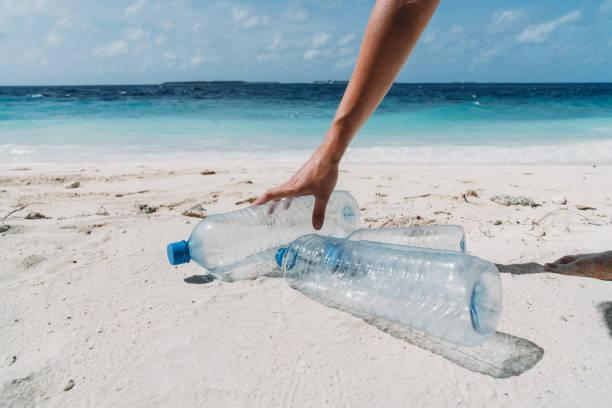Plastic: (269, 232, 504, 346), (152, 189, 363, 273), (327, 223, 472, 267)
